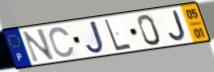0: (135, 13, 163, 47)
C: (48, 26, 76, 59)
J: (85, 20, 106, 56), (167, 9, 188, 42)
L: (103, 18, 134, 52)
N: (21, 27, 57, 64)
